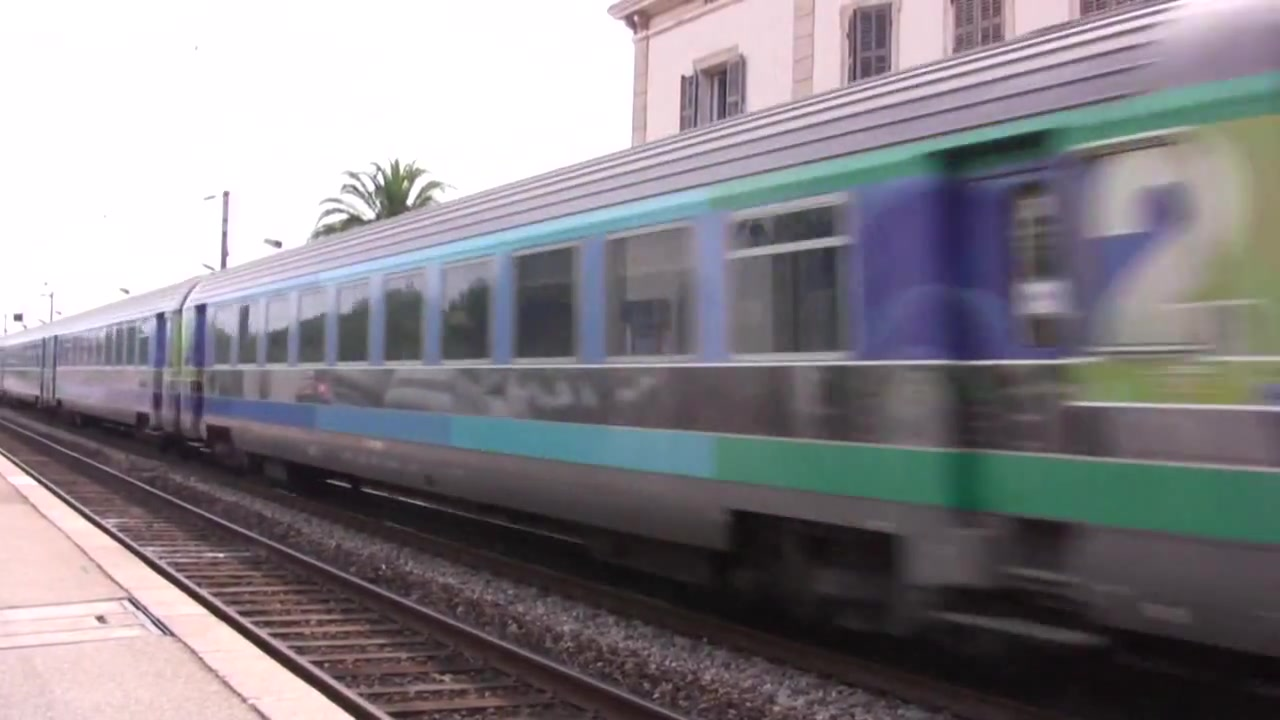train: (1, 1, 1280, 671)
